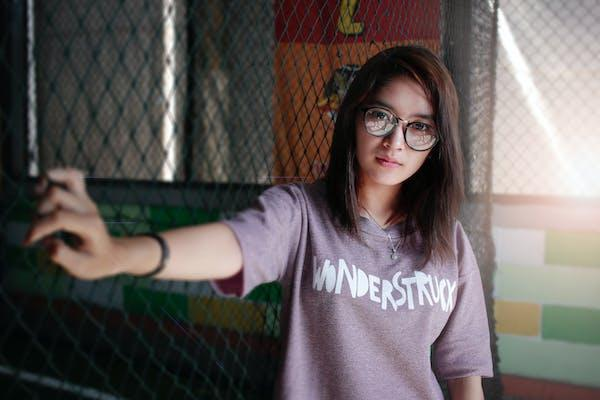eyeglasses: (354, 98, 445, 154)
